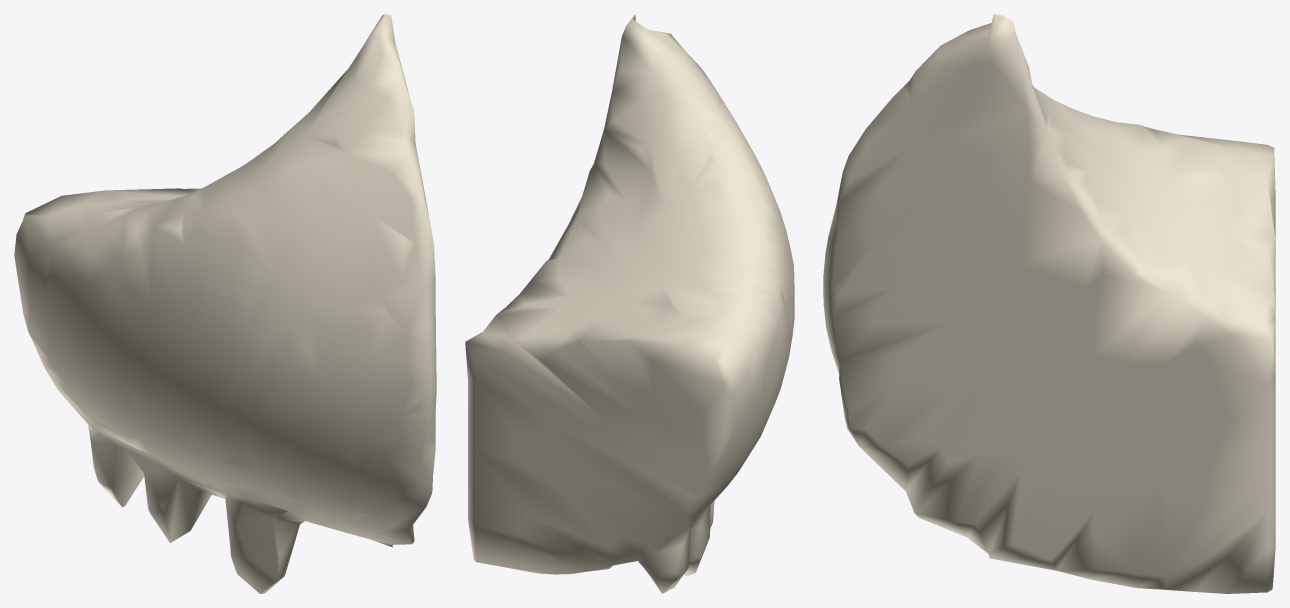
Rendered from premaxilla_l.glb.
3 renders of one model, left to right at view 1: azimuth 30°, elevation 25°; view 2: azimuth 150°, elevation 25°; view 3: azimuth 270°, elevation 25°, orthographic. The views are drawn at different scales.
Parts seen in each view (by area): view 1: geometry_0; view 2: geometry_0; view 3: geometry_0.
Part boxes in pixels (x1,y1,x2,y2): geometry_0: (14, 14, 436, 593); geometry_0: (465, 14, 794, 593); geometry_0: (823, 14, 1275, 593).
Bounding box in the file's own units: 0.0791 × 0.145 × 0.0996.
